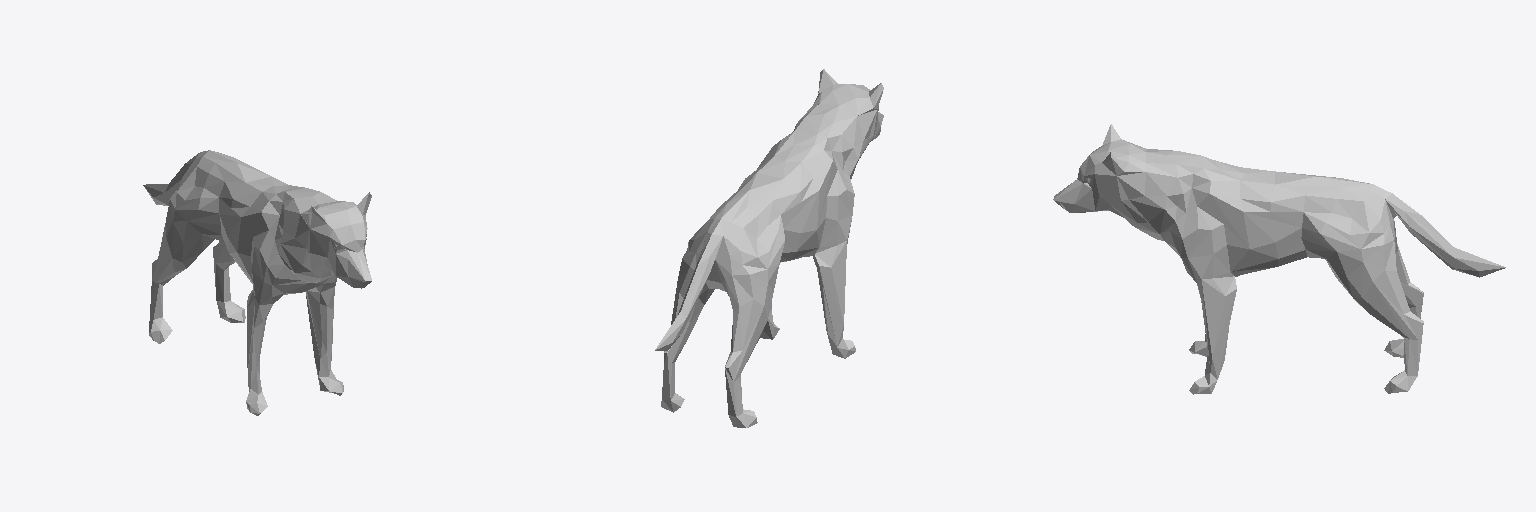
File: loupSwag.obj
The picture shows the model from 3 angles: view 1: azimuth 30°, elevation 25°; view 2: azimuth 150°, elevation 25°; view 3: azimuth 270°, elevation 25°; orthographic projection.
Visible parts, largest first — view 1: wolf; view 2: wolf; view 3: wolf.
Part boxes in pixels (x1,y1,x2,y2): wolf: (143, 150, 371, 415); wolf: (655, 69, 883, 427); wolf: (1053, 124, 1505, 394).
Size of the model in its own units: 1.16 by 2.78 by 4.82.